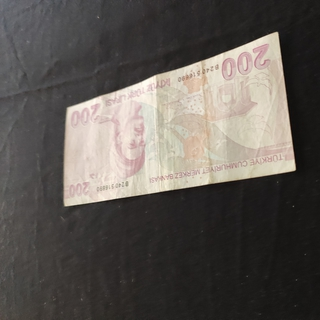200TLBack: (62, 31, 296, 206)
